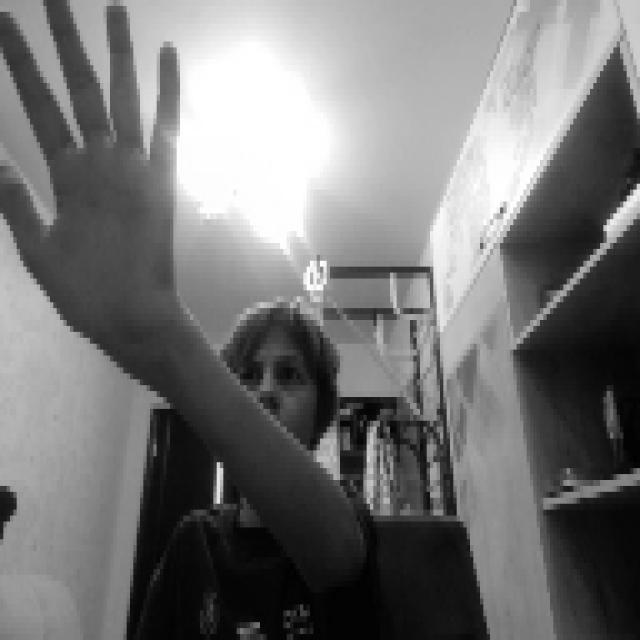hand: (0, 0, 177, 350)
